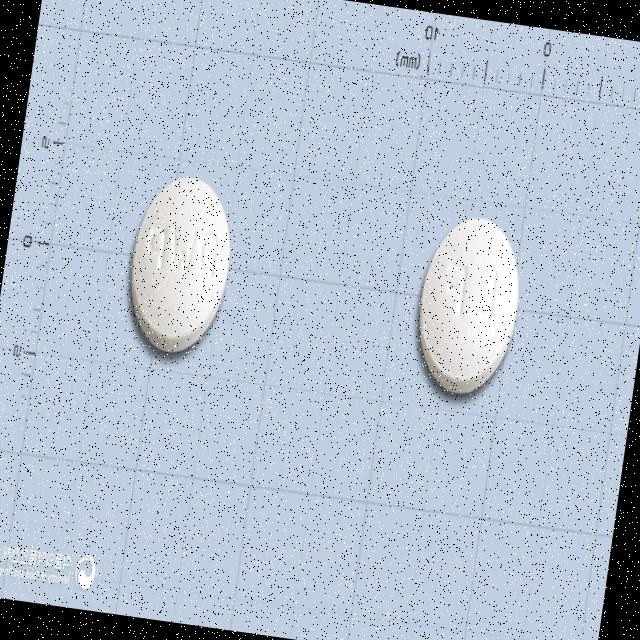Lefloxin: (408, 209, 530, 401), (121, 168, 241, 360)
